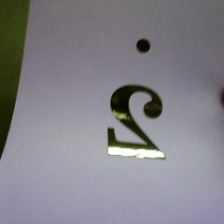violet2: (98, 35, 175, 164)
